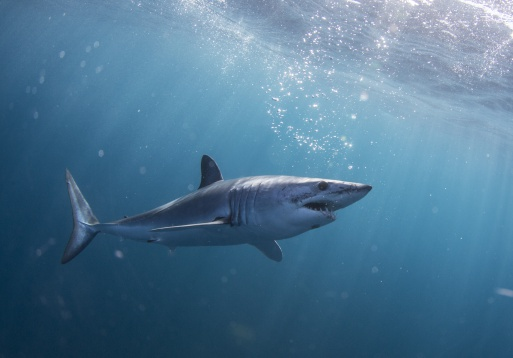Mako: (52, 141, 374, 276)
